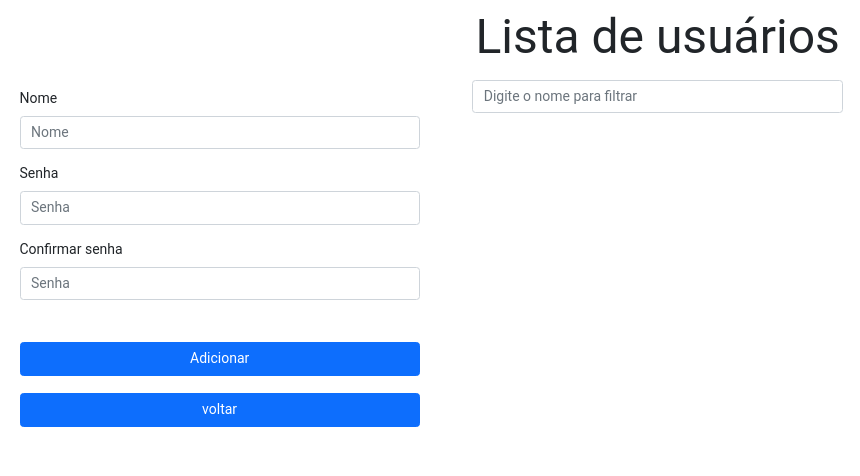
it: register user › add new user
In the field with id "input-username": (220, 133) [20,116,420,150], type "user"
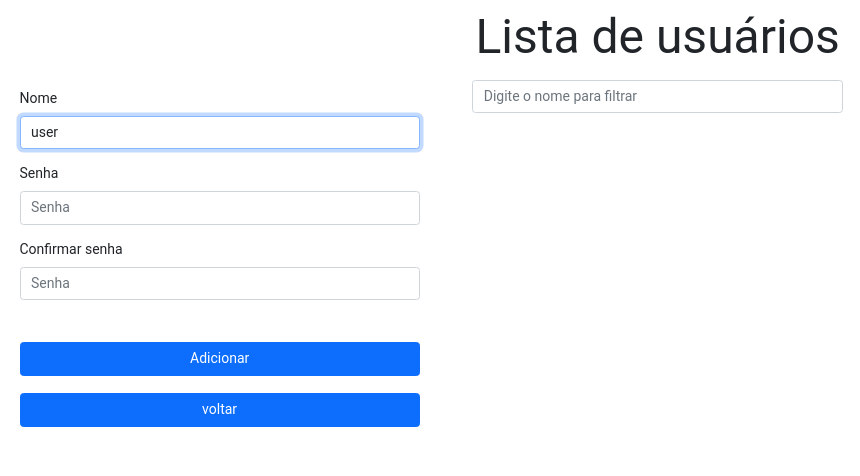
In the password field with id "input-password": (220, 208) [20,191,420,225], type "password"
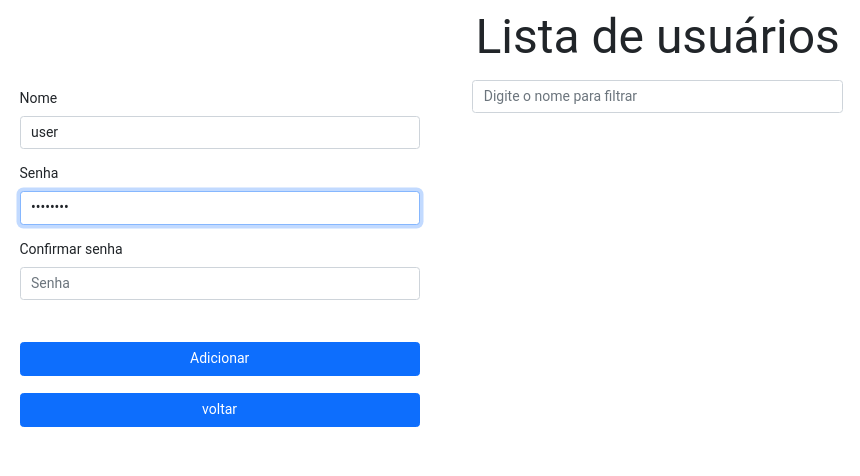
In the password field with id "input-confirm-password": (220, 284) [20,267,420,301], type "password"
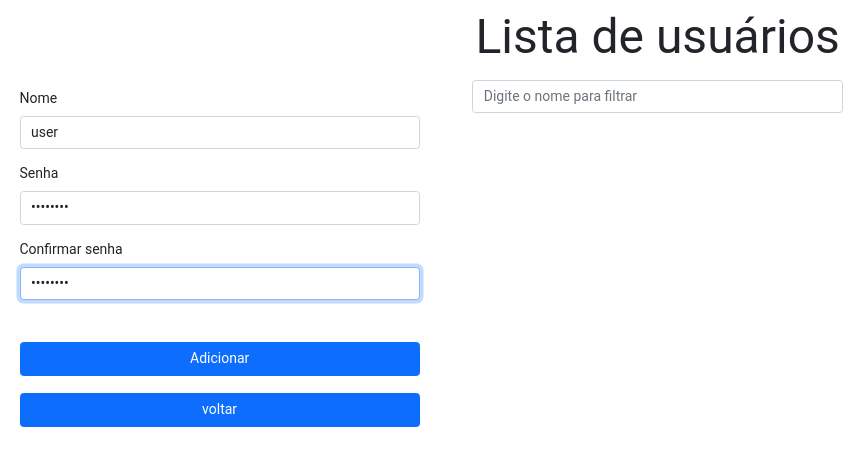
Click the button "Adicionar": (220, 359) [20,342,420,376]
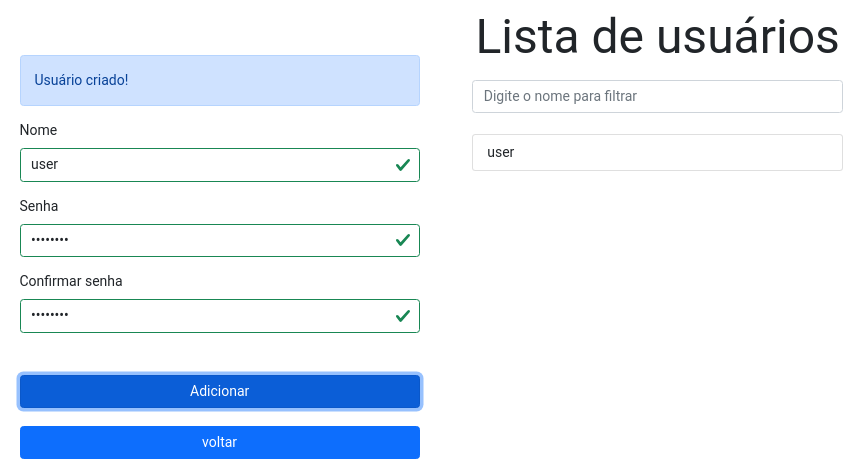
Expected: the text "user" is shown, [472,134,843,171]
